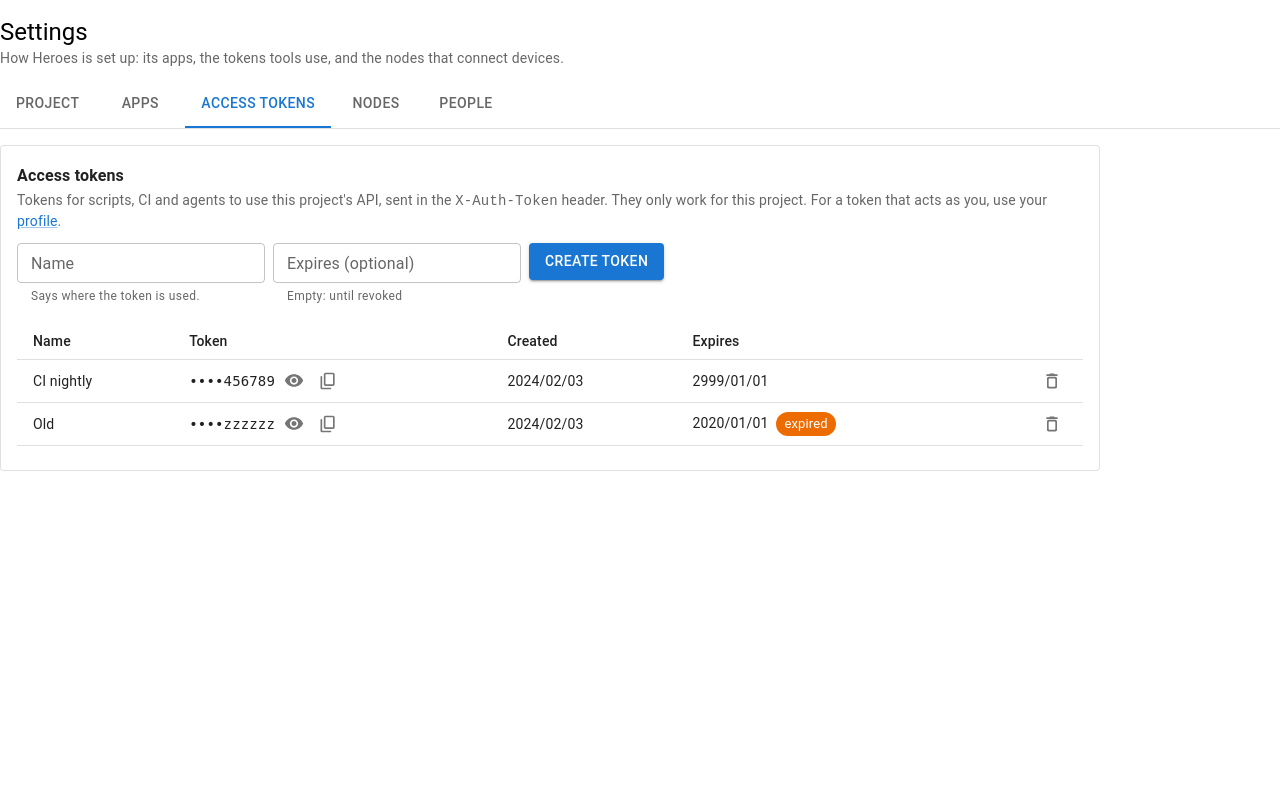
Test: Settings > Access tokens > revoke: can be cancelled, and shows the error when it fails
Expected: the table named "Access tokens" is shown, top-left (17, 323), bottom-right (1083, 446)
Click the button named "Revoke CI nightly" at (1052, 381), box top-left (1037, 366), bottom-right (1067, 396)
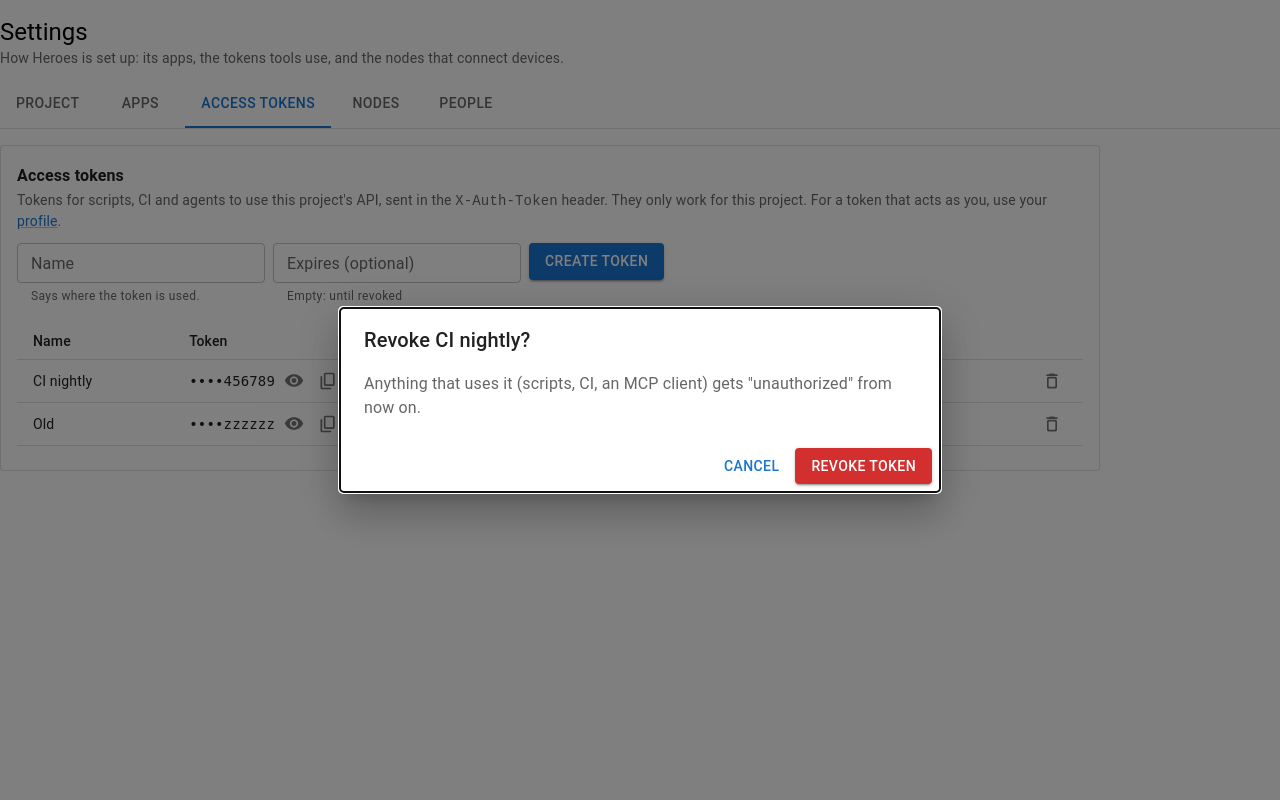
Click the button "Cancel" at (752, 466), box top-left (716, 448), bottom-right (788, 484)
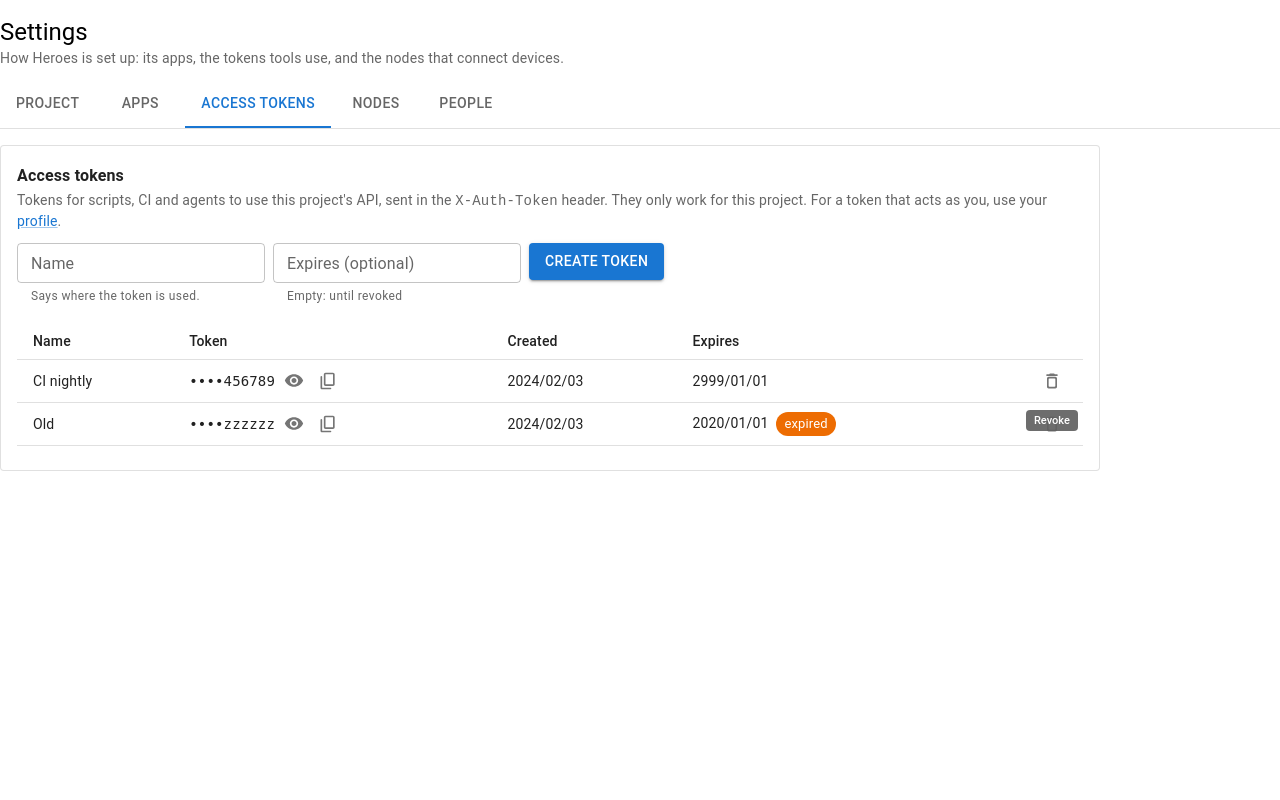
Expected: the dialog is gone
Click the button named "Revoke CI nightly" at (1052, 381), box top-left (1037, 366), bottom-right (1067, 396)
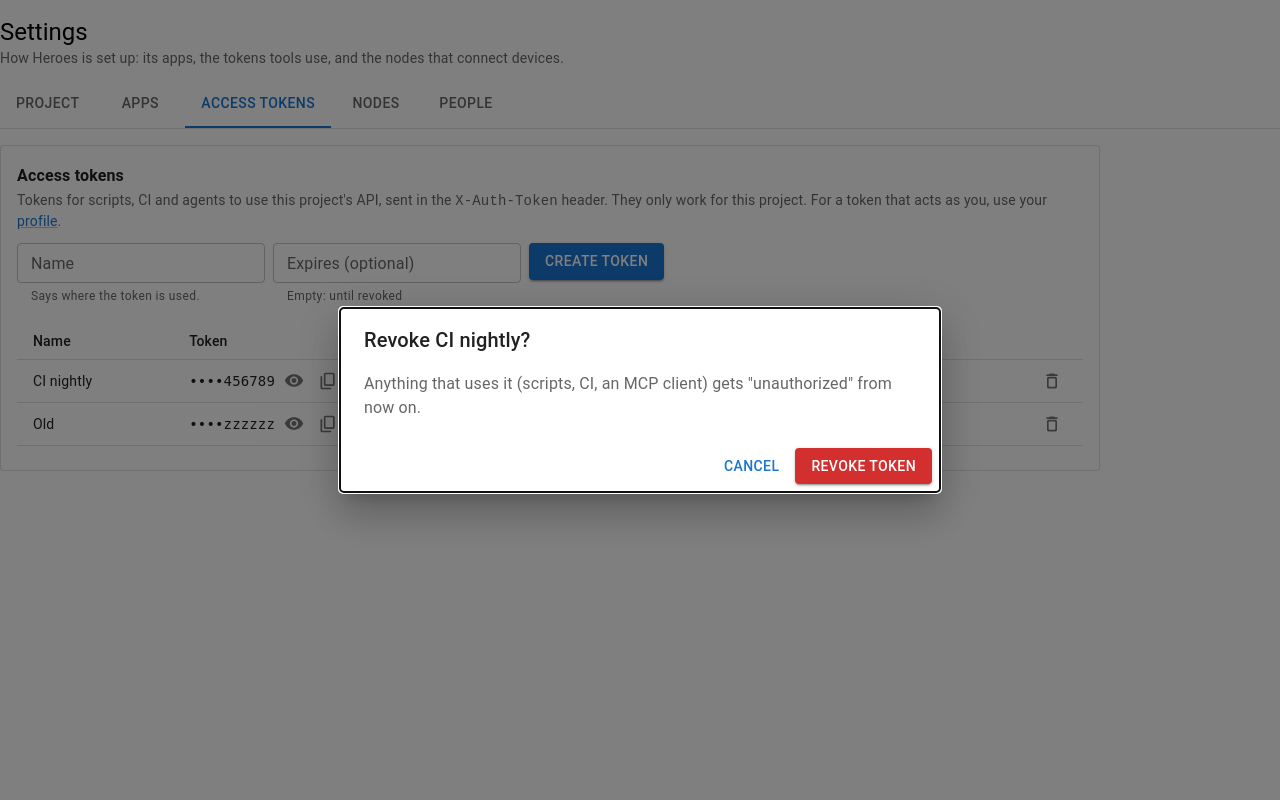
Click the button "Revoke token" at (864, 466), box top-left (795, 448), bottom-right (932, 484)
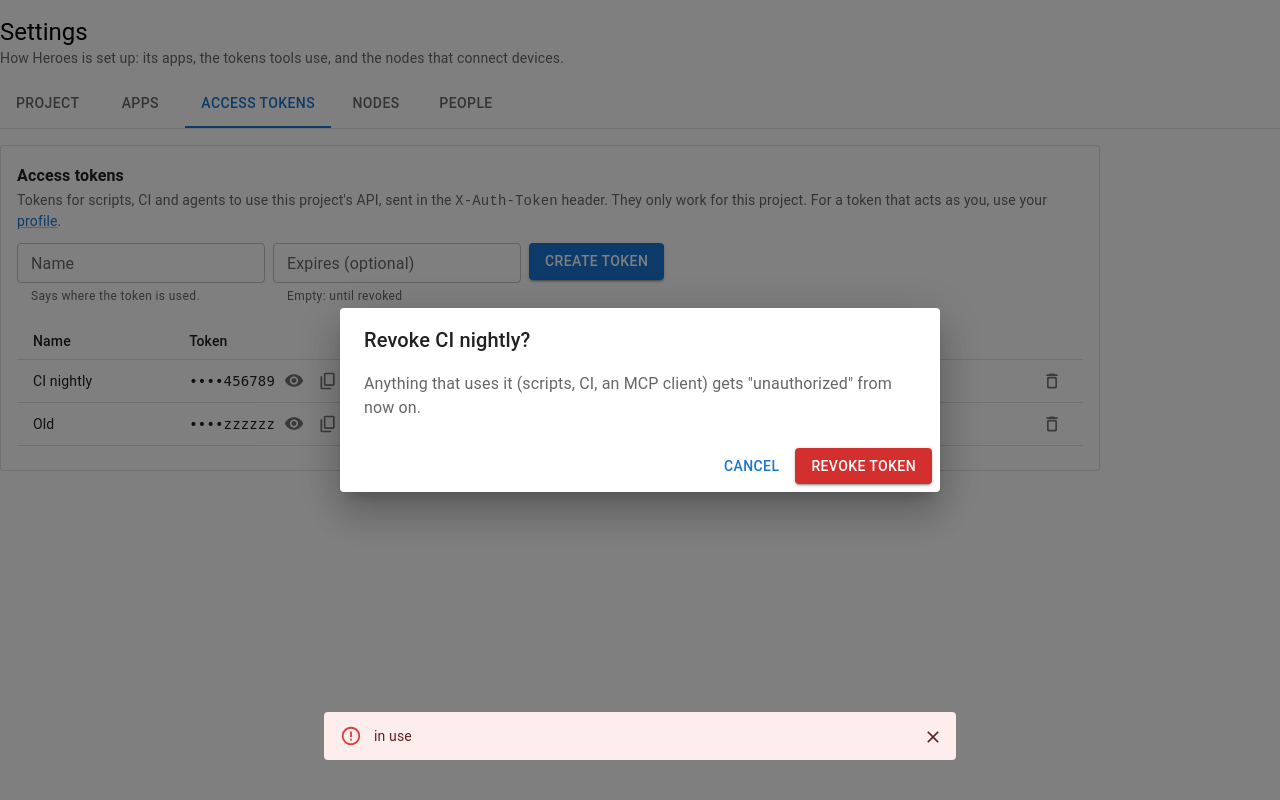
Expected: the dialog is shown, top-left (340, 308), bottom-right (940, 492)
Expected: the message reads "in use", top-left (374, 728), bottom-right (412, 744)
